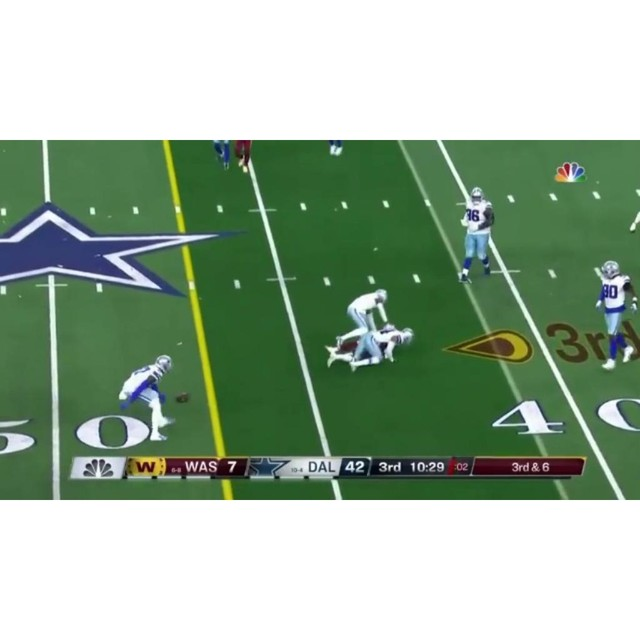american-football-player: (592, 260, 640, 372), (118, 354, 176, 439), (326, 324, 414, 372), (456, 188, 498, 284), (329, 288, 392, 351), (233, 141, 253, 173)
